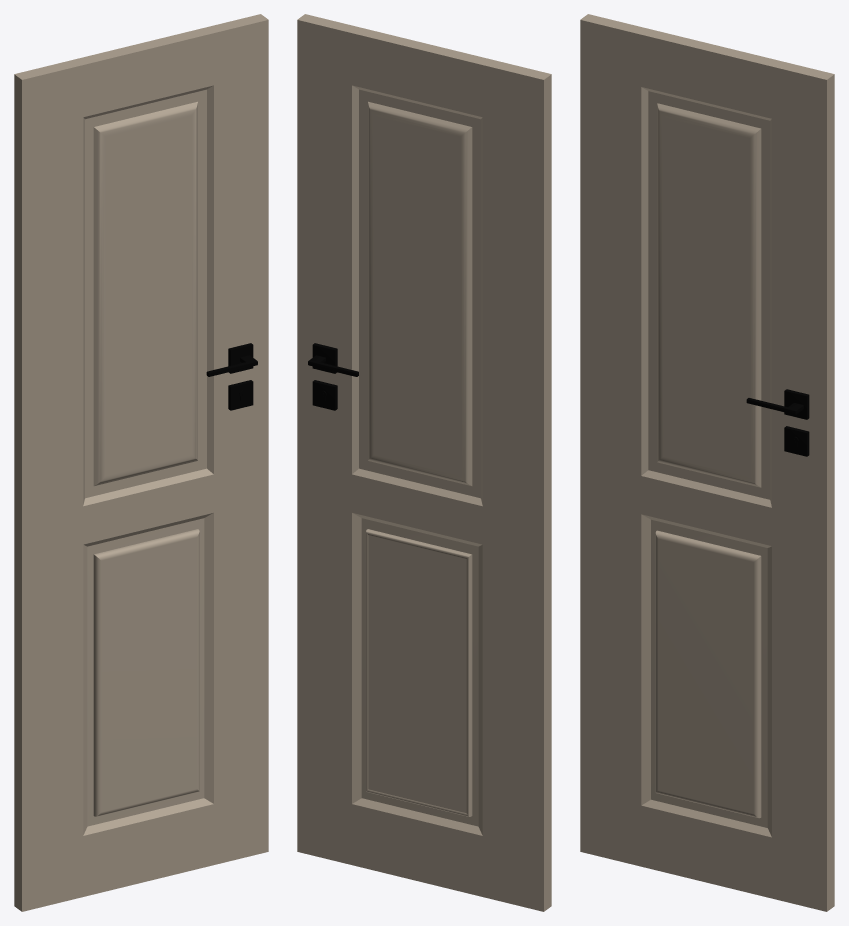
Rendered from RP_4_3a_door.glb.
The picture shows the model from 3 angles, left to right: view 1: azimuth 30°, elevation 25°; view 2: azimuth 150°, elevation 25°; view 3: azimuth 330°, elevation 25°; orthographic projection.
Visible parts, largest first — view 1: RP_4__3a_door_; view 2: RP_4__3a_door_; view 3: RP_4__3a_door_.
Boxes of the visible parts, x1=… form: RP_4__3a_door_: x1=14, y1=14, x2=268, y2=911; RP_4__3a_door_: x1=297, y1=14, x2=551, y2=911; RP_4__3a_door_: x1=580, y1=14, x2=834, y2=911.
Bounding box in the file's own units: 0.5468 × 1.76 × 0.1089.
1 material, 1 textured.
